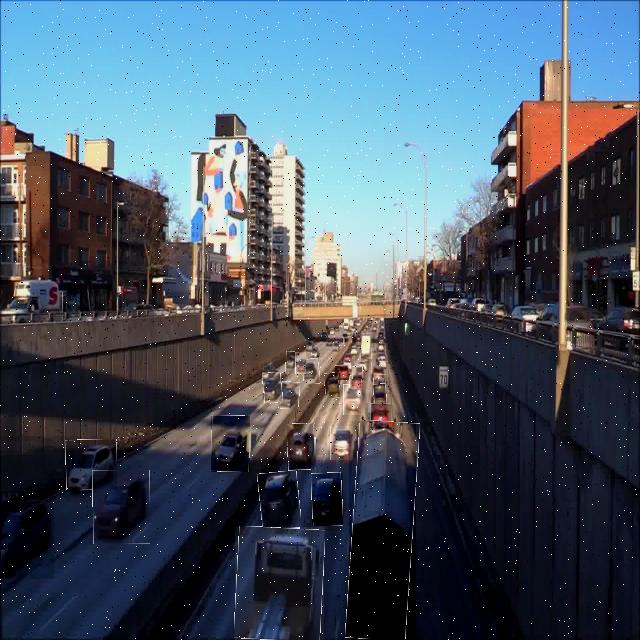Car: (0, 491, 54, 579), (93, 470, 150, 544), (66, 440, 117, 490), (259, 471, 300, 530), (211, 416, 250, 472), (312, 473, 343, 526), (288, 424, 316, 470), (330, 426, 353, 460), (263, 372, 283, 403), (343, 384, 362, 415), (280, 382, 300, 409), (370, 403, 391, 428), (303, 359, 320, 384), (324, 373, 340, 398), (374, 384, 386, 405), (295, 352, 306, 374), (373, 374, 386, 392), (335, 365, 349, 380), (371, 362, 384, 378), (286, 351, 295, 372), (350, 375, 362, 388), (353, 366, 363, 379)
Truck: (349, 421, 416, 640), (235, 527, 324, 640), (362, 331, 374, 359)
